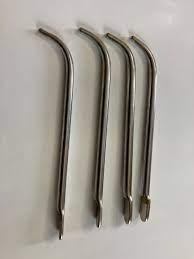Urethral Dilators: (36, 26, 73, 243), (75, 21, 112, 229), (104, 30, 141, 227), (130, 28, 158, 228)
